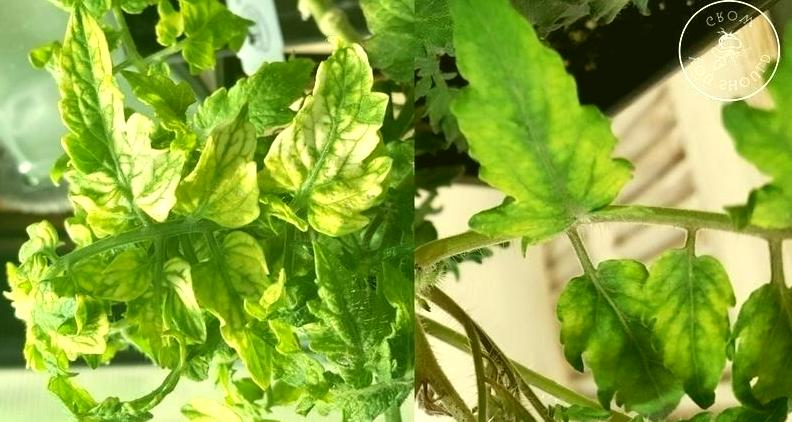Tomato leaf yellow virus: (434, 0, 643, 256), (48, 4, 190, 238), (267, 34, 389, 234), (556, 241, 693, 418), (170, 85, 281, 224), (645, 243, 732, 403), (198, 213, 280, 377), (99, 238, 204, 357), (152, 0, 260, 68)
